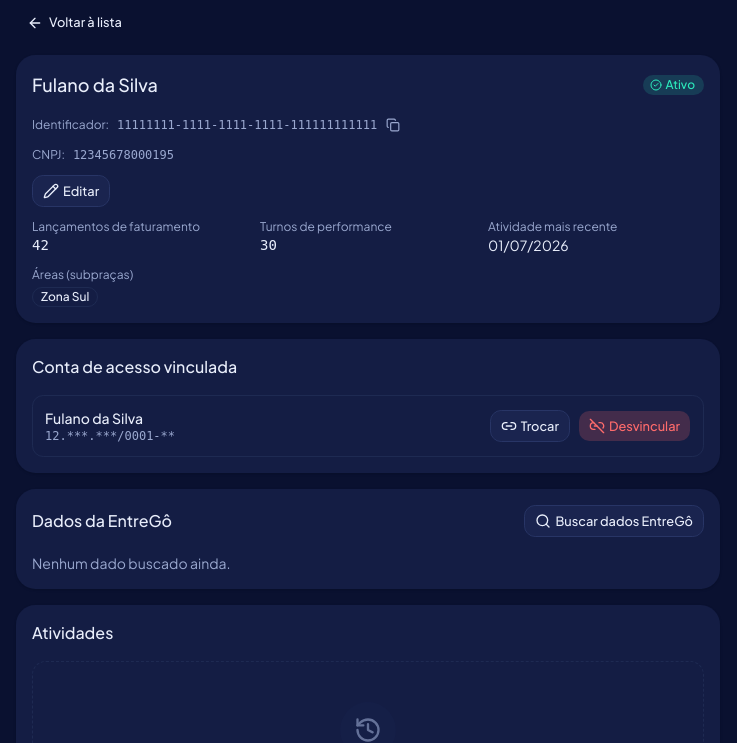
it: MotoristaDetalhePage › Dados da EntreGô (FASE 7, tasks 7.1/7.2) › task 7.2.2/7.2.4: 429 JA_PENDENTE (indisponibilidade transitória) mostra mensagem de erro clara
Click the button "Buscar dados EntreGô" at (614, 521), box [524,505,704,537]
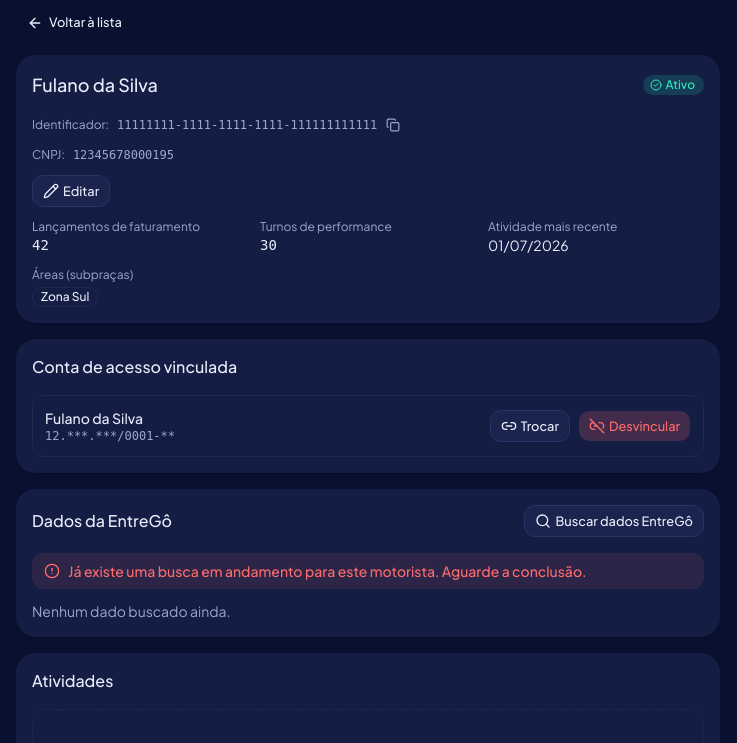
Expected: the text "Já existe uma busca em andamento para este motorista. Aguarde a conclusão." is shown, [32,553,704,589]
